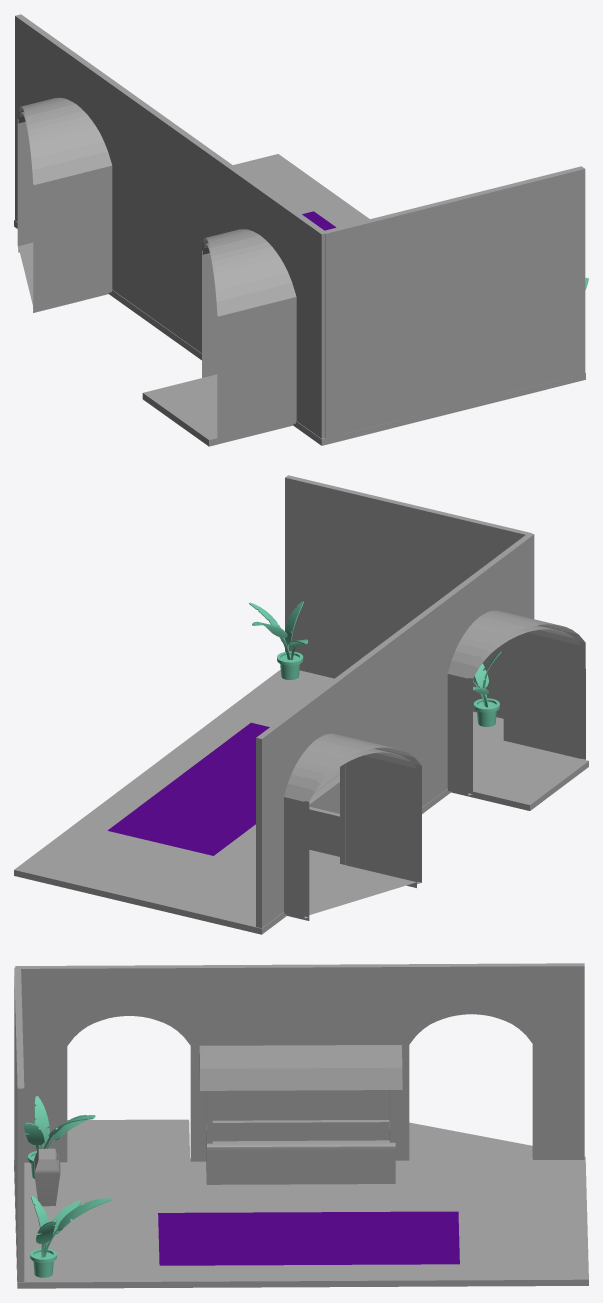
Rendered from Test_ArcadeEntrance 1.fbx.
3 renders of one model, top to bottom at view 1: azimuth 30°, elevation 25°; view 2: azimuth 150°, elevation 25°; view 3: azimuth 270°, elevation 25°, orthographic. The views are drawn at different scales.
Visible parts, largest first — view 1: pCube3, polySurface8, polySurface9, polySurface10, polySurface3; view 2: polySurface3, pCube3, polySurface8, polySurface10, polySurface9, Rug_bitchasklfjf_v, polySurface1, Big_plant1, Big_plant; view 3: polySurface8, polySurface3, polySurface1, Rug_bitchasklfjf_v, pCube3, Big_plant1, Big_plant, pCube17.
Boxes of the visible parts, x1,y1,x2,y2 form: pCube3: [322, 166, 585, 438]; polySurface8: [15, 14, 327, 438]; polySurface9: [17, 97, 112, 311]; polySurface10: [202, 229, 296, 442]; polySurface3: [14, 154, 585, 446]; polySurface3: [14, 669, 588, 934]; pCube3: [285, 475, 531, 718]; polySurface8: [256, 533, 534, 928]; polySurface10: [447, 610, 585, 795]; polySurface9: [284, 733, 421, 918]; Rug_bitchasklfjf_v: [107, 722, 269, 855]; polySurface1: [309, 773, 339, 856]; Big_plant1: [249, 601, 308, 679]; Big_plant: [473, 652, 501, 726]; polySurface8: [15, 963, 584, 1162]; polySurface3: [14, 1119, 588, 1288]; polySurface1: [199, 1045, 402, 1184]; Rug_bitchasklfjf_v: [158, 1211, 459, 1265]; pCube3: [14, 967, 24, 1282]; Big_plant1: [30, 1196, 111, 1277]; Big_plant: [24, 1096, 95, 1178]; pCube17: [34, 1148, 60, 1206].
Bounding box in the file's own units: 940 × 505 × 1318.
